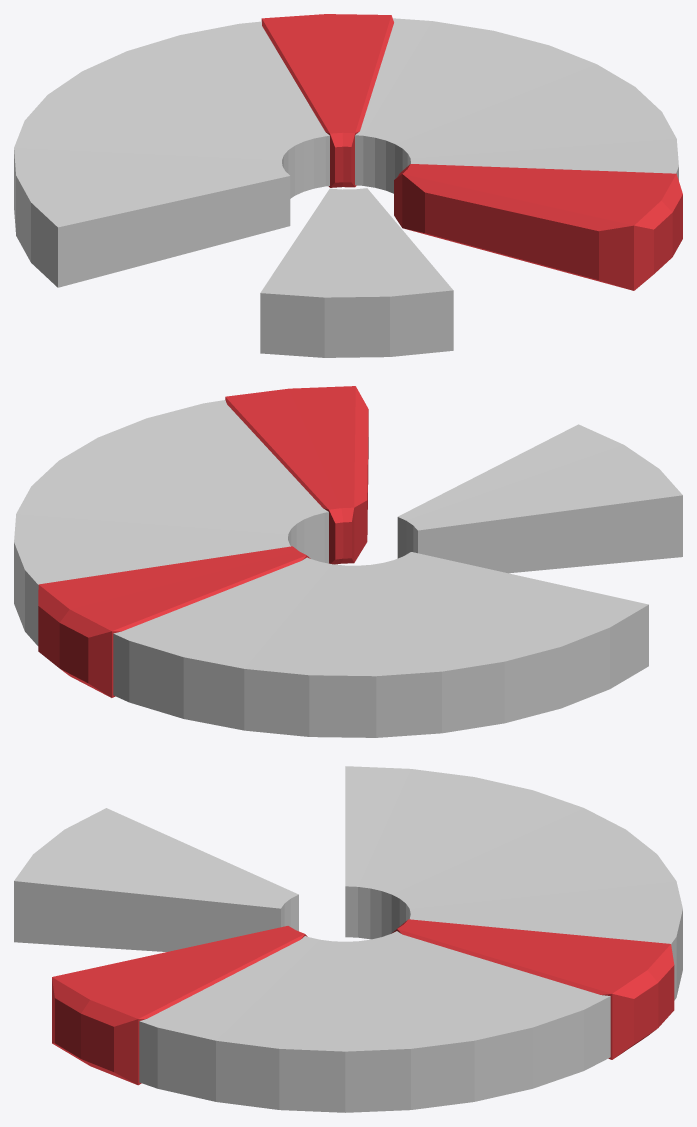
Rendered from platform_doublegap1.glb.
The picture shows the model from 3 angles, top to bottom: view 1: azimuth 30°, elevation 25°; view 2: azimuth 150°, elevation 25°; view 3: azimuth 270°, elevation 25°; orthographic projection. The views are drawn at different scales.
Parts seen in each view (by area): view 1: Platform_DoubleGap1, Danger.014, Danger.022; view 2: Platform_DoubleGap1, Danger.022, Danger.014; view 3: Platform_DoubleGap1, Danger.014, Danger.022.
Boxes of the visible parts, x1,y1,x2,y2 form: Platform_DoubleGap1: (14,18,678,357); Danger.014: (394,164,682,290); Danger.022: (261,14,393,187); Platform_DoubleGap1: (14,400,682,737); Danger.022: (38,546,310,697); Danger.014: (225,386,368,564); Platform_DoubleGap1: (14,766,682,1112); Danger.014: (52,926,307,1085); Danger.022: (391,919,674,1059).
Size of the model in its own units: 2 by 0.2167 by 1.98.
